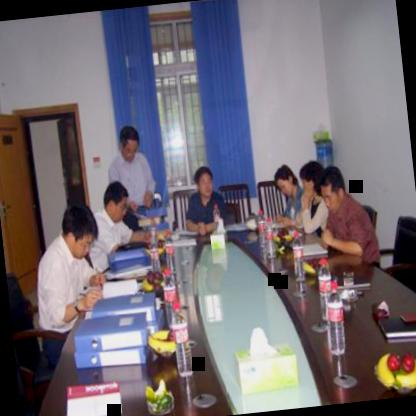head: (56, 198, 101, 263), (99, 178, 132, 226), (318, 162, 348, 214), (298, 156, 324, 205), (270, 162, 300, 204), (114, 121, 144, 161), (190, 160, 218, 202)
